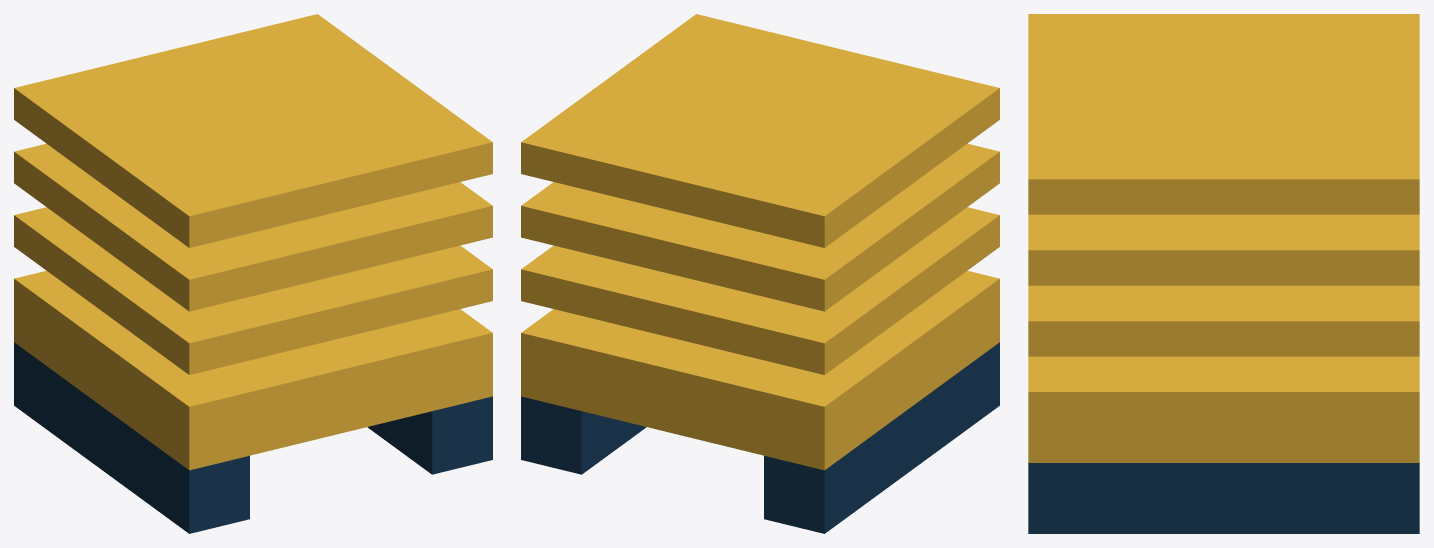
File: Loo.fbx
3 renders of one model, left to right at view 1: azimuth 30°, elevation 25°; view 2: azimuth 150°, elevation 25°; view 3: azimuth 270°, elevation 25°, orthographic. The views are drawn at different scales.
Visible parts, largest first — view 1: Loo; view 2: Loo; view 3: Loo.
Boxes of the visible parts, x1=… form: Loo: x1=14, y1=14, x2=492, y2=533; Loo: x1=521, y1=14, x2=999, y2=533; Loo: x1=1028, y1=14, x2=1419, y2=533.
Bounding box in the file's own units: 10 × 10 × 10.
1 material, 1 textured.
